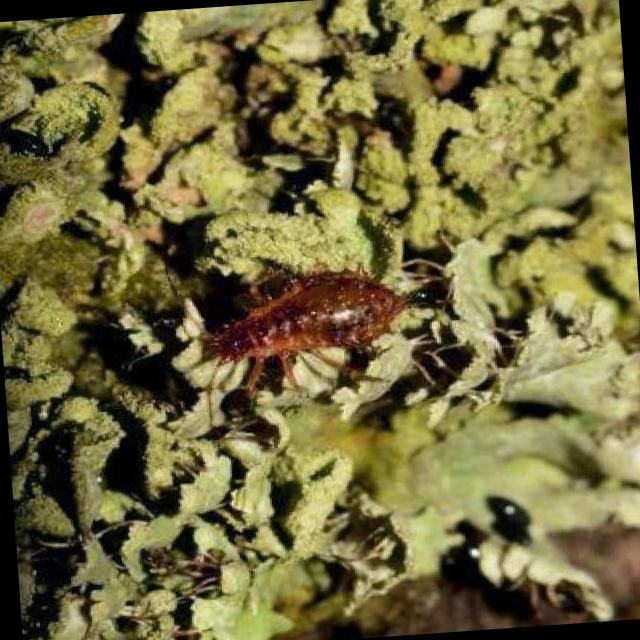aphid: (193, 261, 414, 377)
